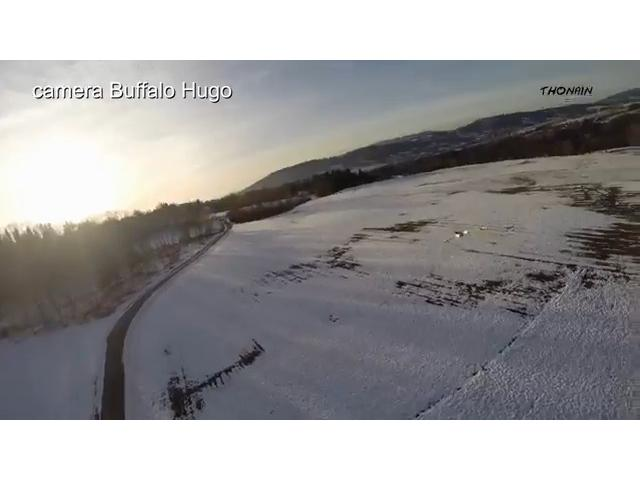Anti-Drone: (435, 215, 497, 249)
